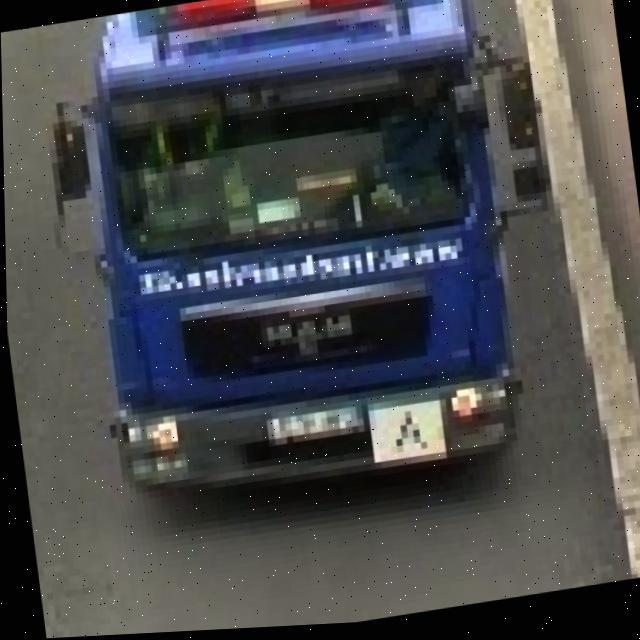truck: (27, 0, 579, 536)
